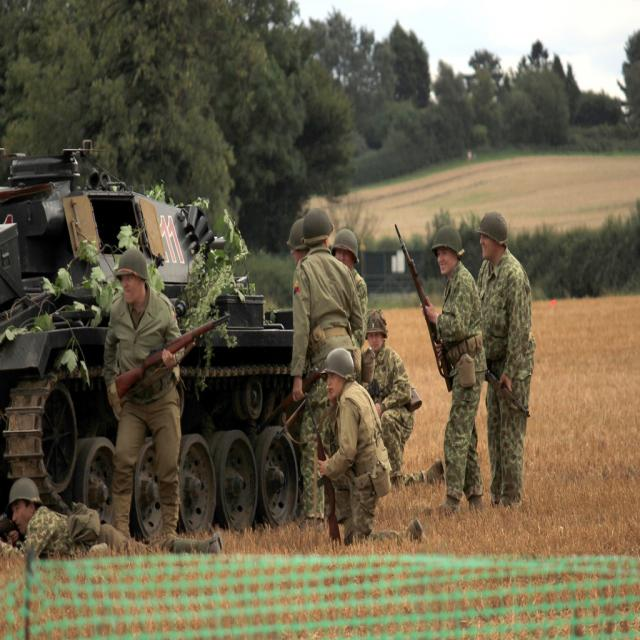tank: (0, 133, 308, 538), (0, 135, 310, 536)
